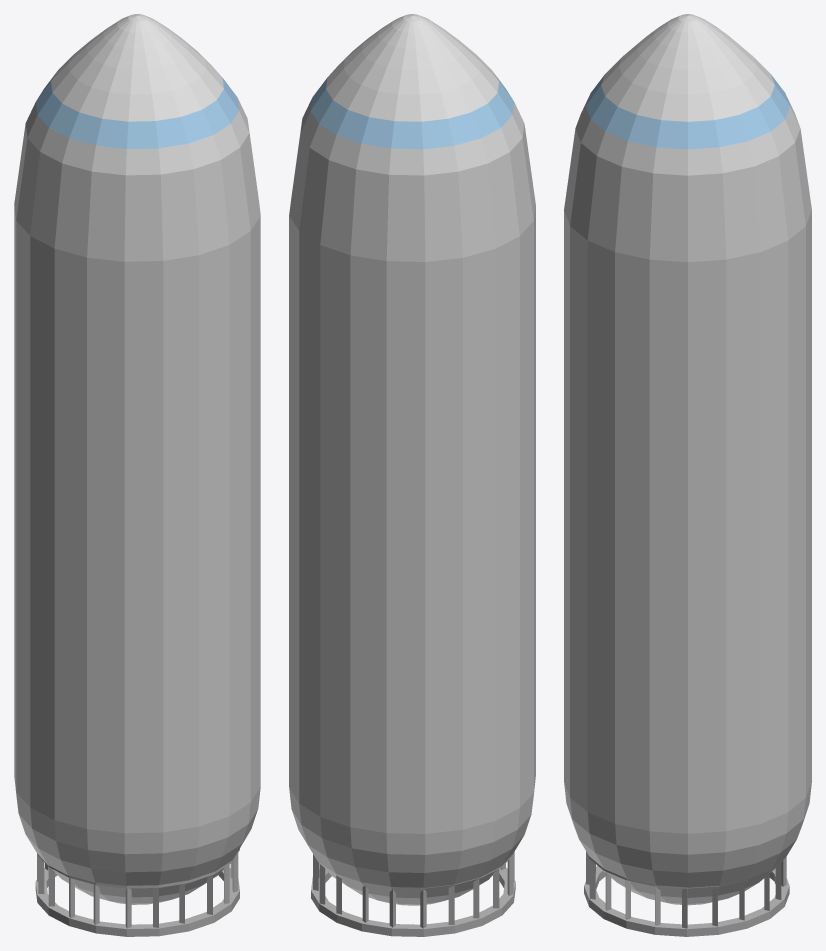
The model's file is roket1_2.fbx.
The picture shows the model from 3 angles, left to right: view 1: azimuth 30°, elevation 25°; view 2: azimuth 150°, elevation 25°; view 3: azimuth 270°, elevation 25°; orthographic projection.
Visible parts, largest first — view 1: Null_1; view 2: Null_1; view 3: Null_1.
Boxes of the visible parts, x1=… form: Null_1: x1=14, y1=14, x2=260, y2=936; Null_1: x1=289, y1=14, x2=535, y2=936; Null_1: x1=564, y1=14, x2=811, y2=936.
Size of the model in its own units: 272 by 1063 by 272.
